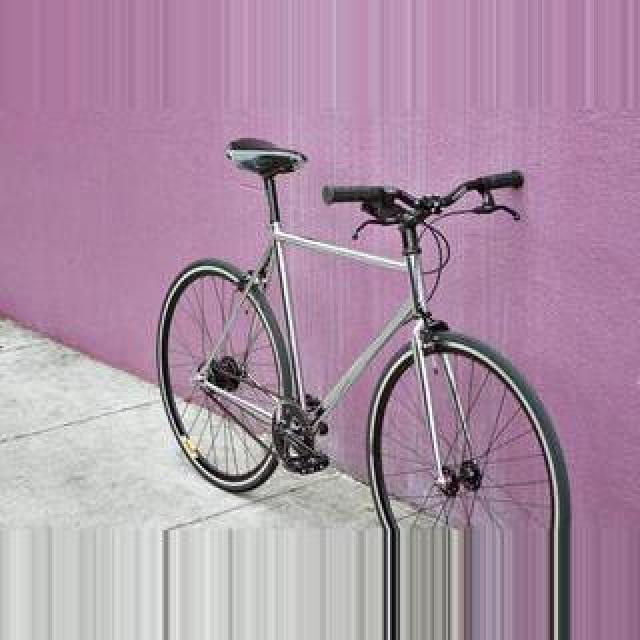Person: (154, 134, 574, 522)
